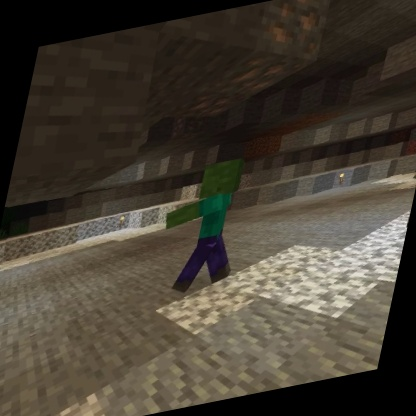zombie: (145, 151, 260, 303)
